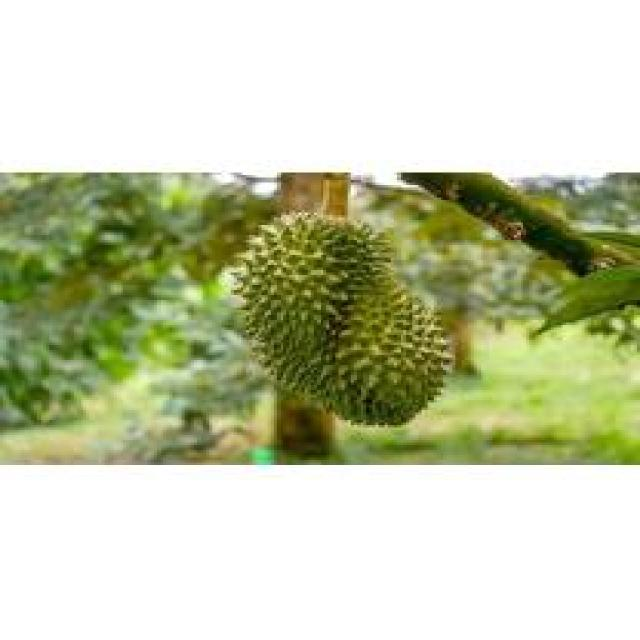non_orange: (224, 207, 462, 435)
